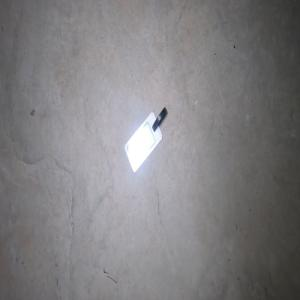LuggageTag: (123, 105, 167, 174)
